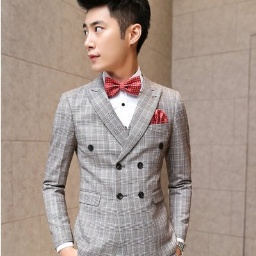face: (75, 1, 153, 72)
